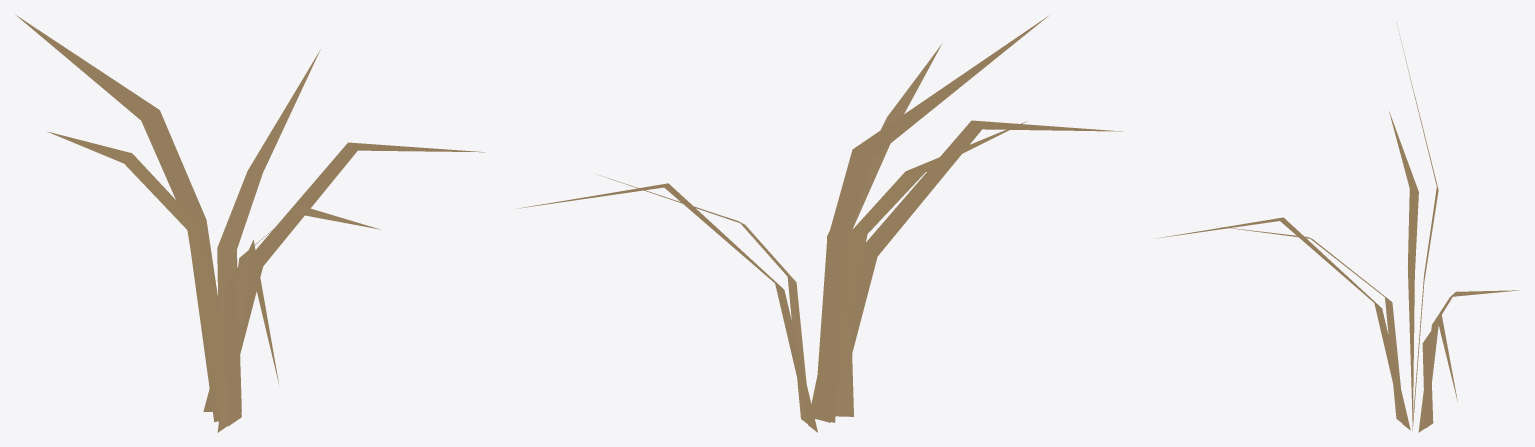
The model's file is Grass_f_TwoS_02.fbx.
The picture shows the model from 3 angles, left to right: view 1: azimuth 30°, elevation 25°; view 2: azimuth 150°, elevation 25°; view 3: azimuth 270°, elevation 25°; orthographic projection. The views are drawn at different scales.
Visible parts, largest first — view 1: Grass_f_TwoS_02; view 2: Grass_f_TwoS_02; view 3: Grass_f_TwoS_02.
Boxes of the visible parts, <box> form: Grass_f_TwoS_02: <box>16,15,484,432</box>; Grass_f_TwoS_02: <box>518,16,1122,432</box>; Grass_f_TwoS_02: <box>1156,22,1518,432</box>.
Bounding box in the file's own units: 0.4759 × 0.4149 × 0.4137.
